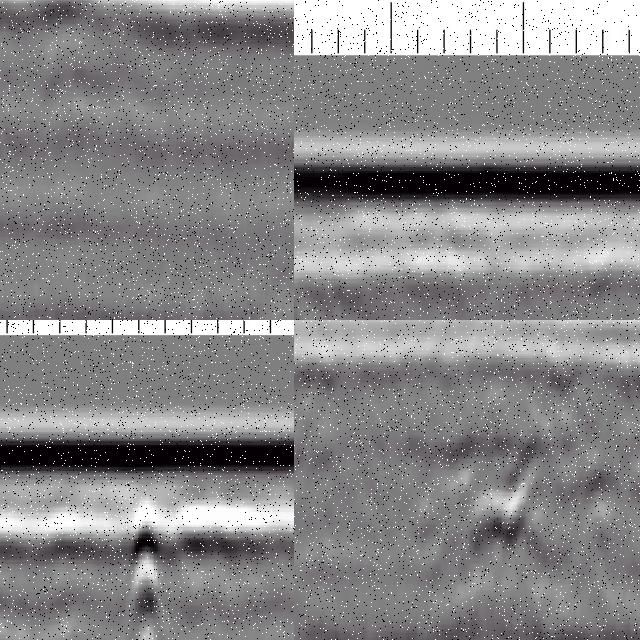crack: (127, 507, 162, 640)
loose: (447, 423, 621, 567)
